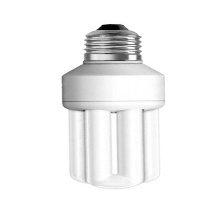light_bulb: (55, 17, 171, 193)
